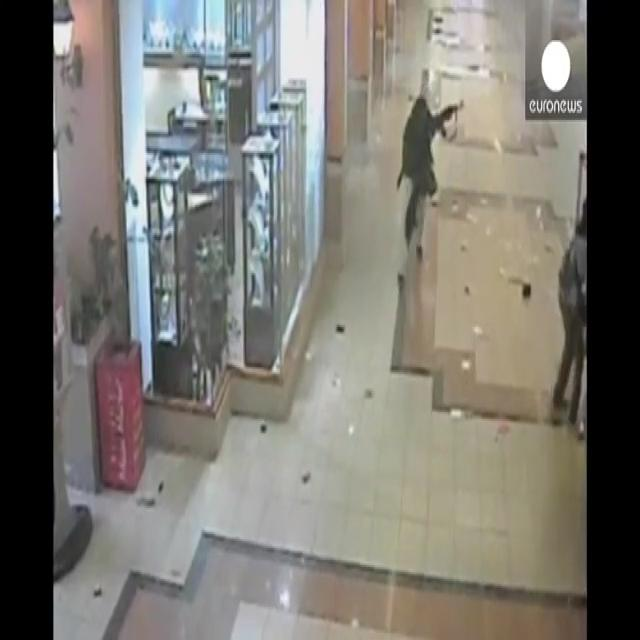Weapon: (422, 106, 470, 147)
